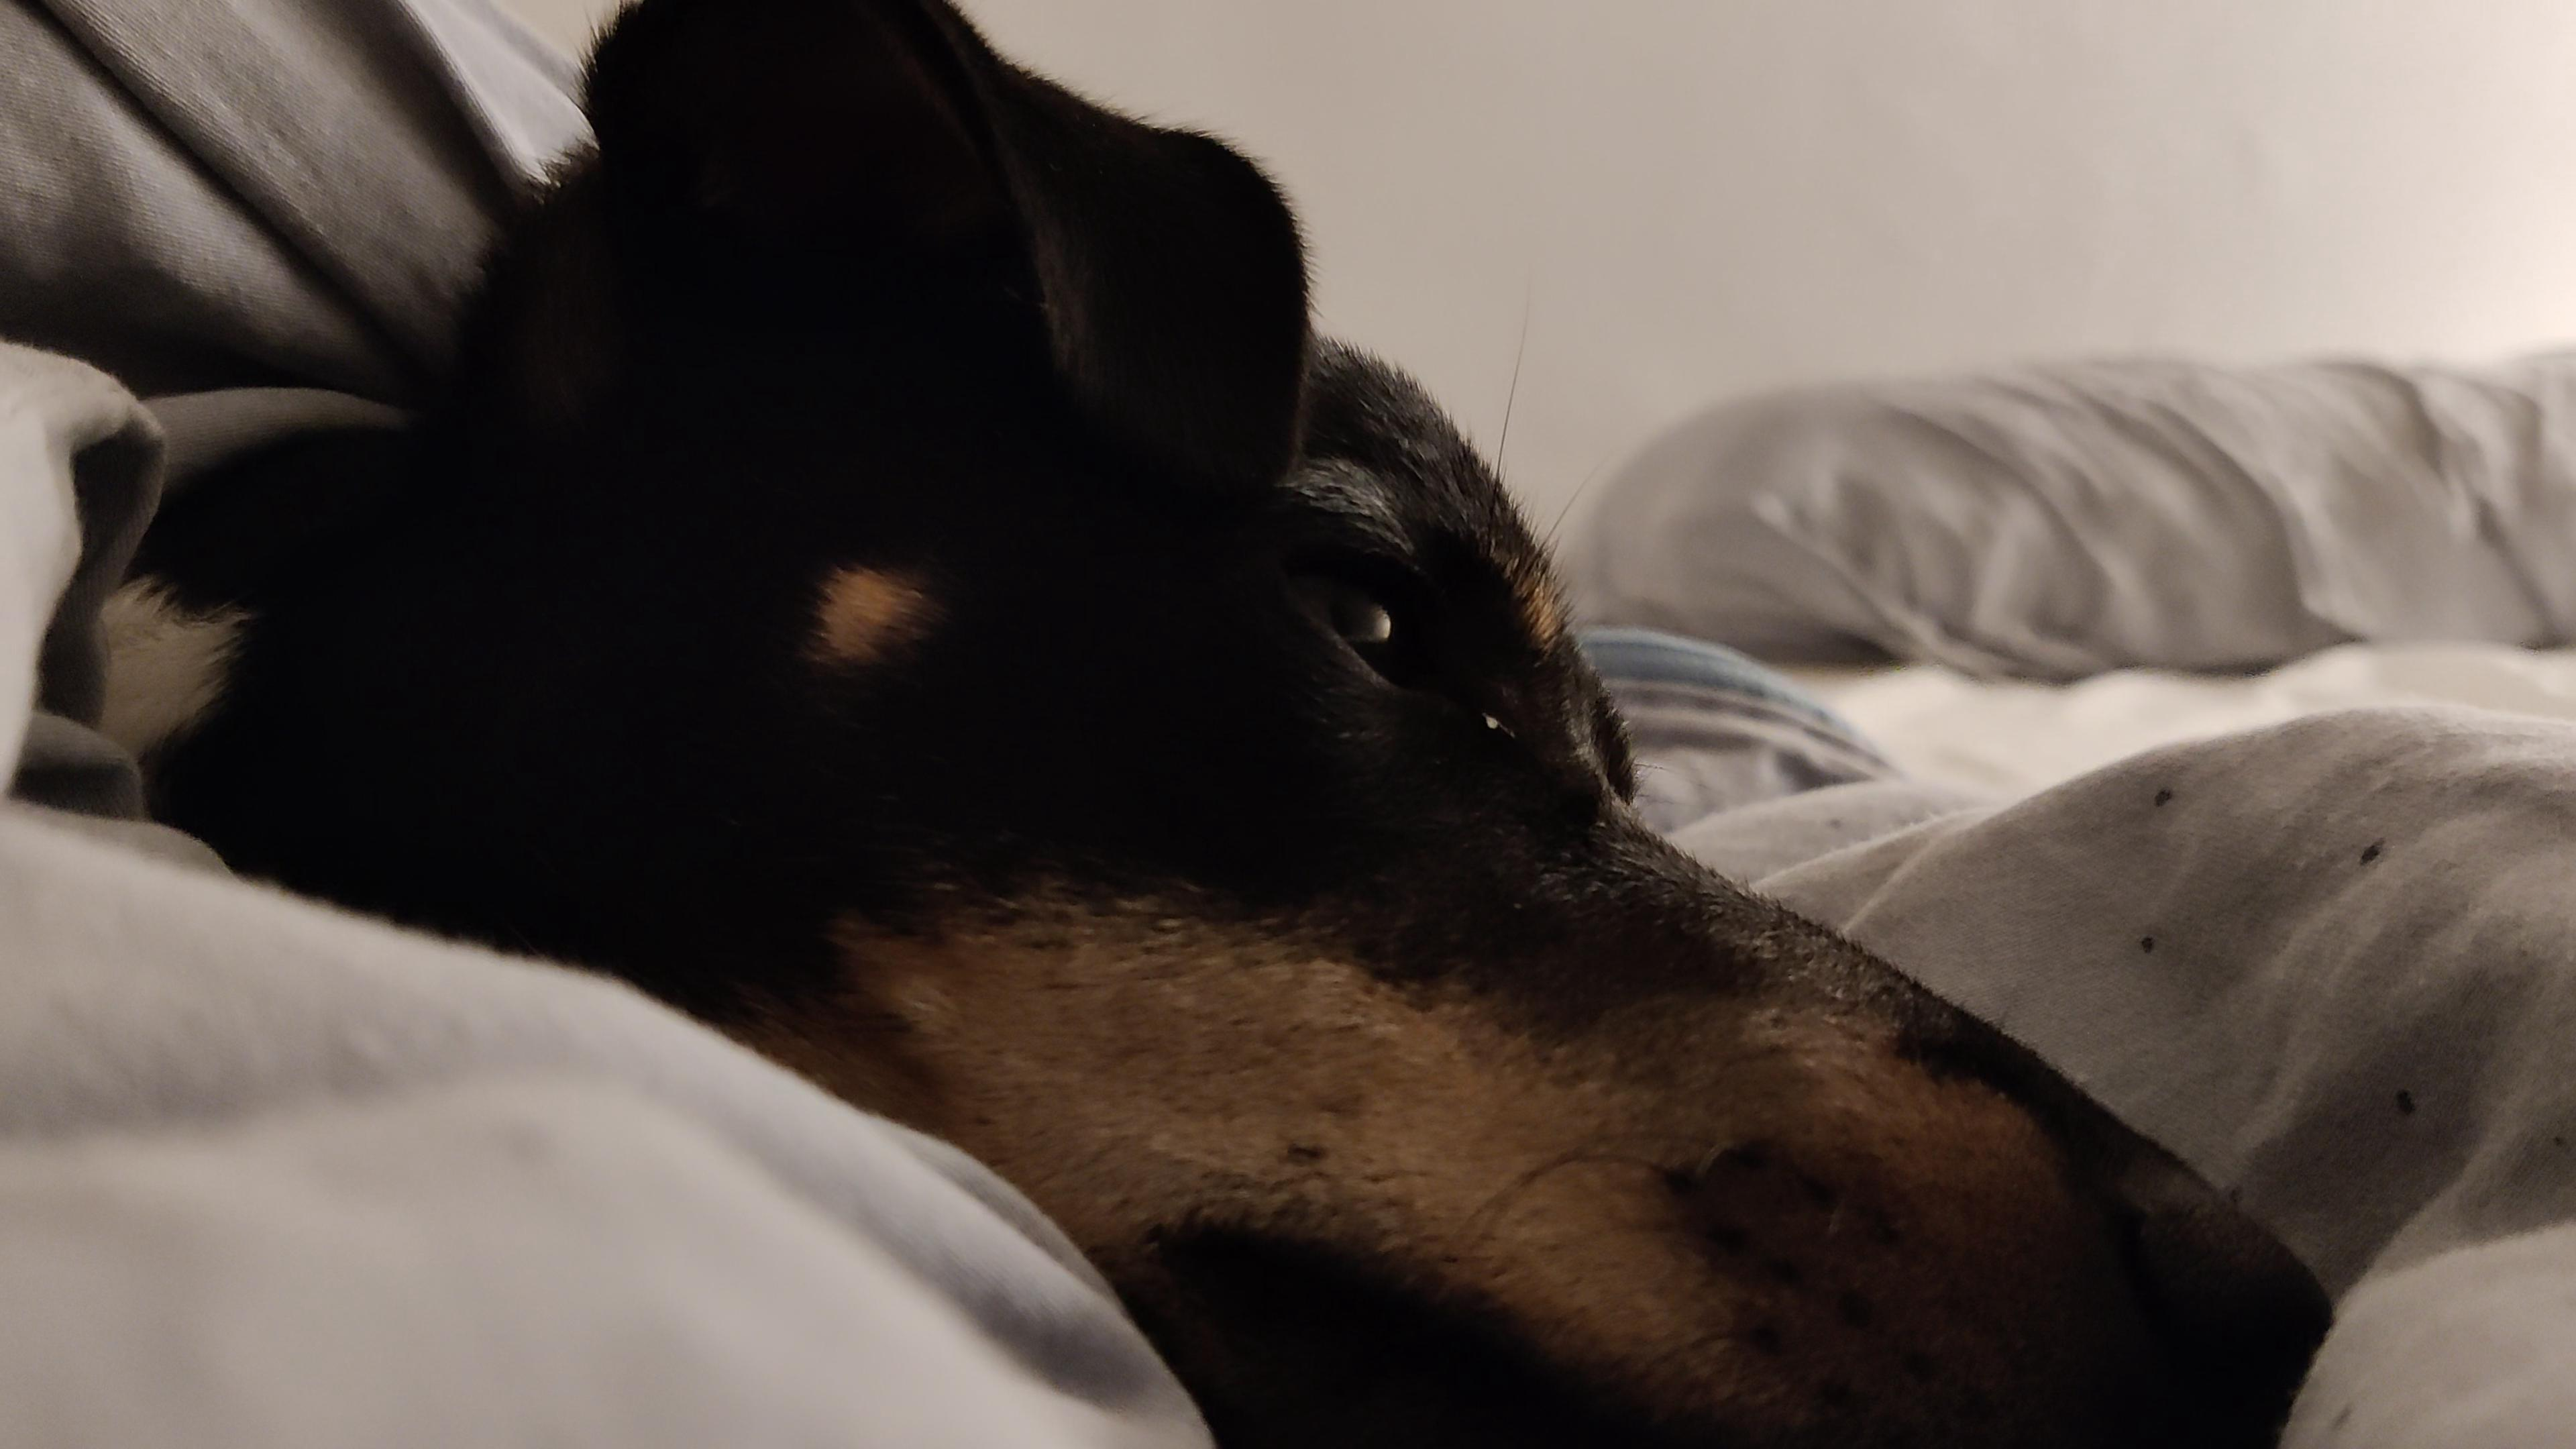Dog: (90, 0, 2342, 1449)
